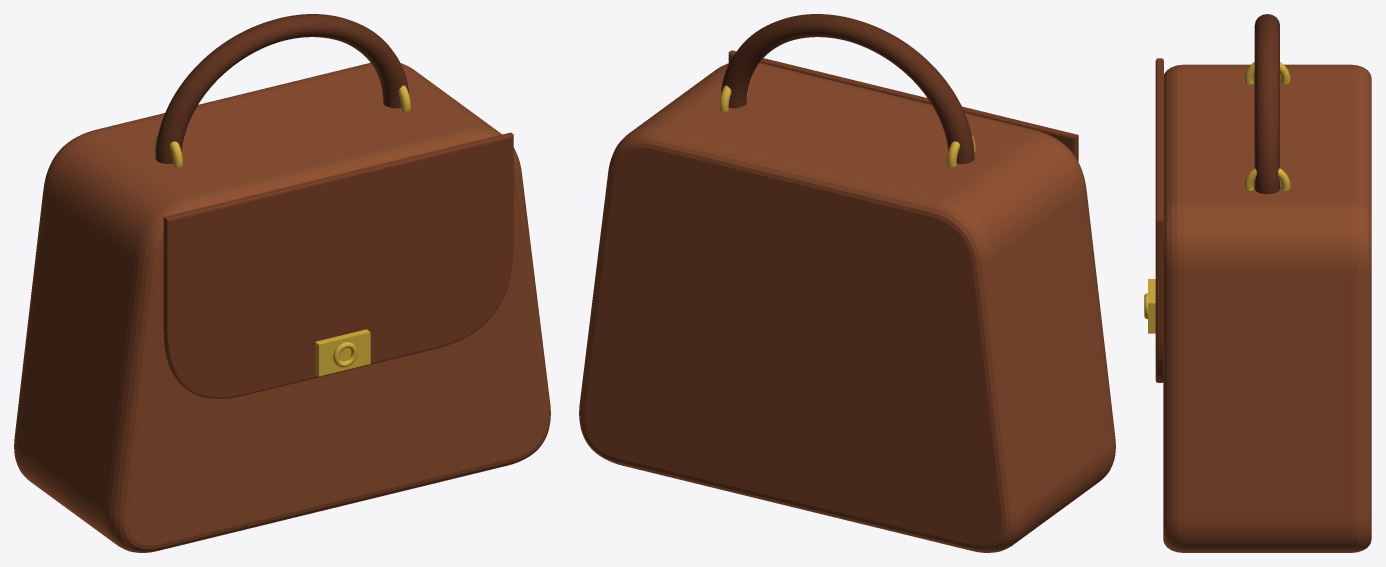
The model's file is bolso-cuero.glb.
3 views of the same model, side by side, from view 1: azimuth 30°, elevation 25°; view 2: azimuth 150°, elevation 25°; view 3: azimuth 270°, elevation 25° (orthographic). The views are drawn at different scales.
Visible parts, largest first — view 1: Cuerpo, Solapa, Asa, Broche; view 2: Cuerpo, Asa, Solapa; view 3: Cuerpo, Asa, Solapa, Argolla (×2), Broche.
Boxes of the visible parts, x1,y1,x2,y2 form: Cuerpo: (14,62,550,552); Solapa: (163,132,513,398); Asa: (155,14,408,163); Broche: (315,329,370,376); Cuerpo: (579,62,1115,552); Asa: (721,14,974,163); Solapa: (728,50,1078,161); Cuerpo: (1163,64,1371,552); Asa: (1254,14,1279,194); Solapa: (1155,58,1163,382); Argolla (×2): (1244,62,1290,190); Broche: (1148,279,1155,333).
Size of the model in its own units: 0.2905 by 0.2896 by 0.1352.
